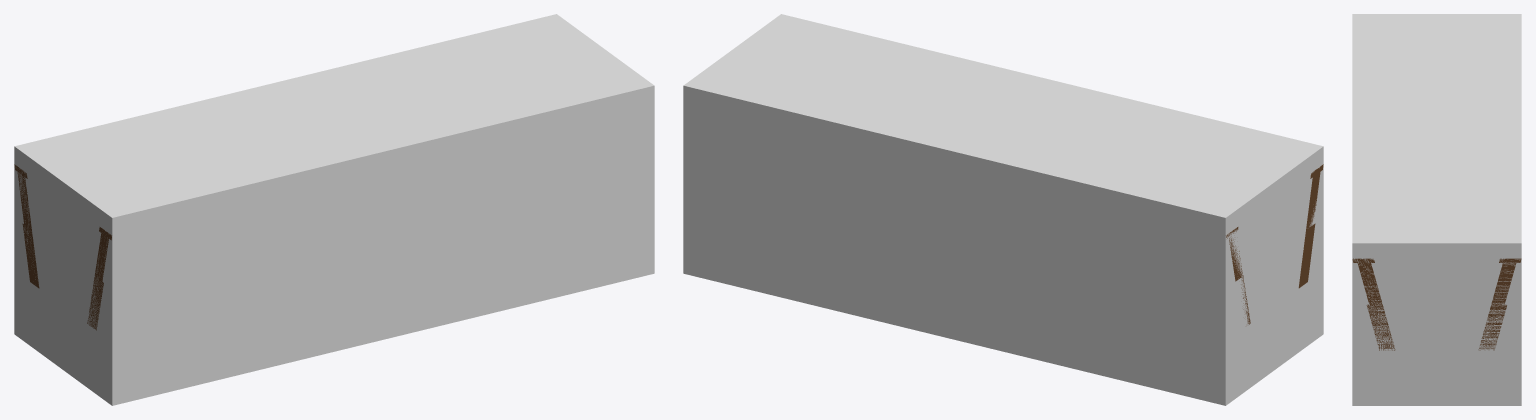
Rendered from FMS_Trough_Grain.fbx.
3 renders of one model, left to right at view 1: azimuth 30°, elevation 25°; view 2: azimuth 150°, elevation 25°; view 3: azimuth 270°, elevation 25°, orthographic. The views are drawn at different scales.
Visible parts, largest first — view 1: FMS_Trough_Grain_Col, FMS_Trough_Grain_LOD0; view 2: FMS_Trough_Grain_Col, FMS_Trough_Grain_LOD0; view 3: FMS_Trough_Grain_Col, FMS_Trough_Grain_LOD0.
Boxes of the visible parts, x1,y1,x2,y2 form: FMS_Trough_Grain_Col: (14, 14, 654, 405); FMS_Trough_Grain_LOD0: (14, 164, 111, 330); FMS_Trough_Grain_Col: (683, 14, 1323, 405); FMS_Trough_Grain_LOD0: (1226, 164, 1323, 324); FMS_Trough_Grain_Col: (1352, 14, 1521, 405); FMS_Trough_Grain_LOD0: (1352, 258, 1521, 350).
Size of what is drawn, in the model's own units: 1.6 by 0.53 by 0.5.
1 material, 1 textured.
